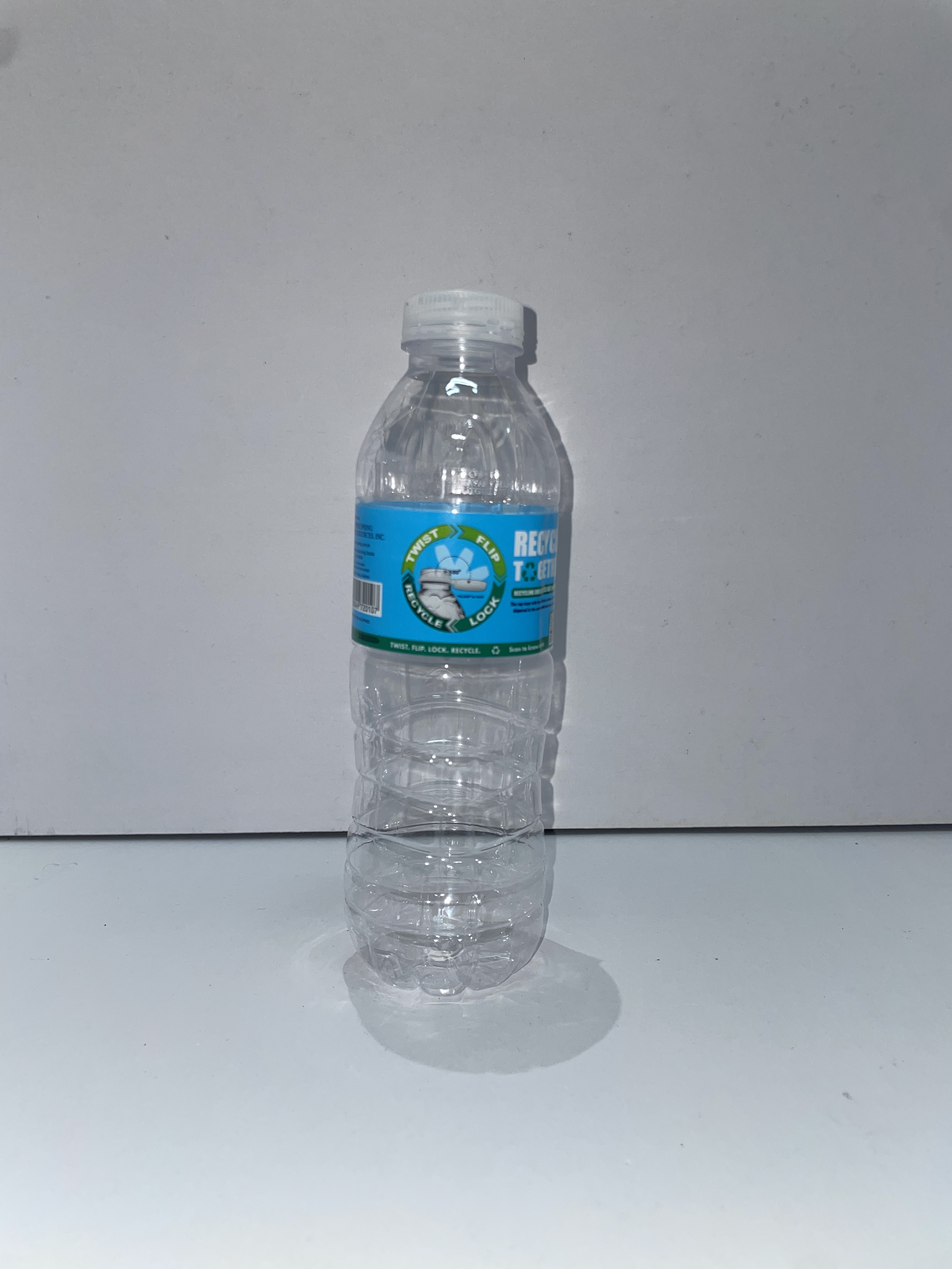natures spring 500ml: (345, 290, 565, 996)
